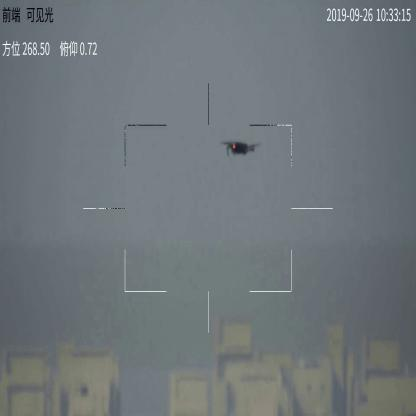uav: (222, 139, 259, 156)
